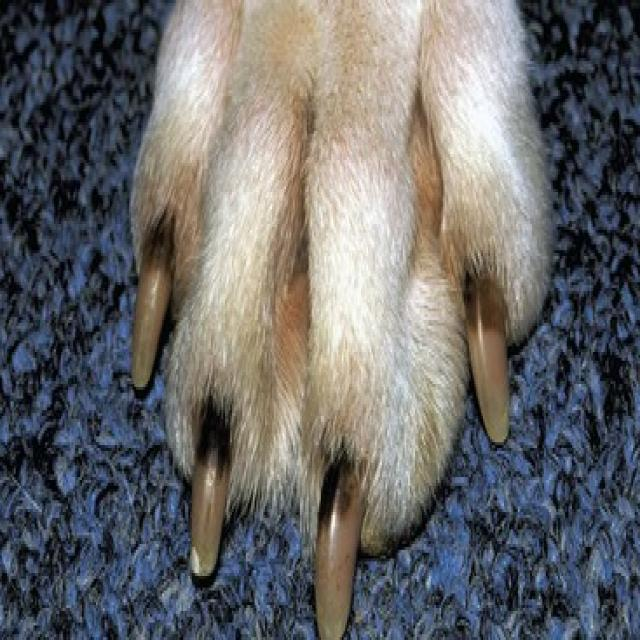fungal infection: (403, 104, 447, 260), (272, 242, 313, 378), (187, 367, 241, 464), (435, 211, 504, 279), (141, 195, 190, 273), (322, 430, 360, 529), (459, 265, 515, 329)
